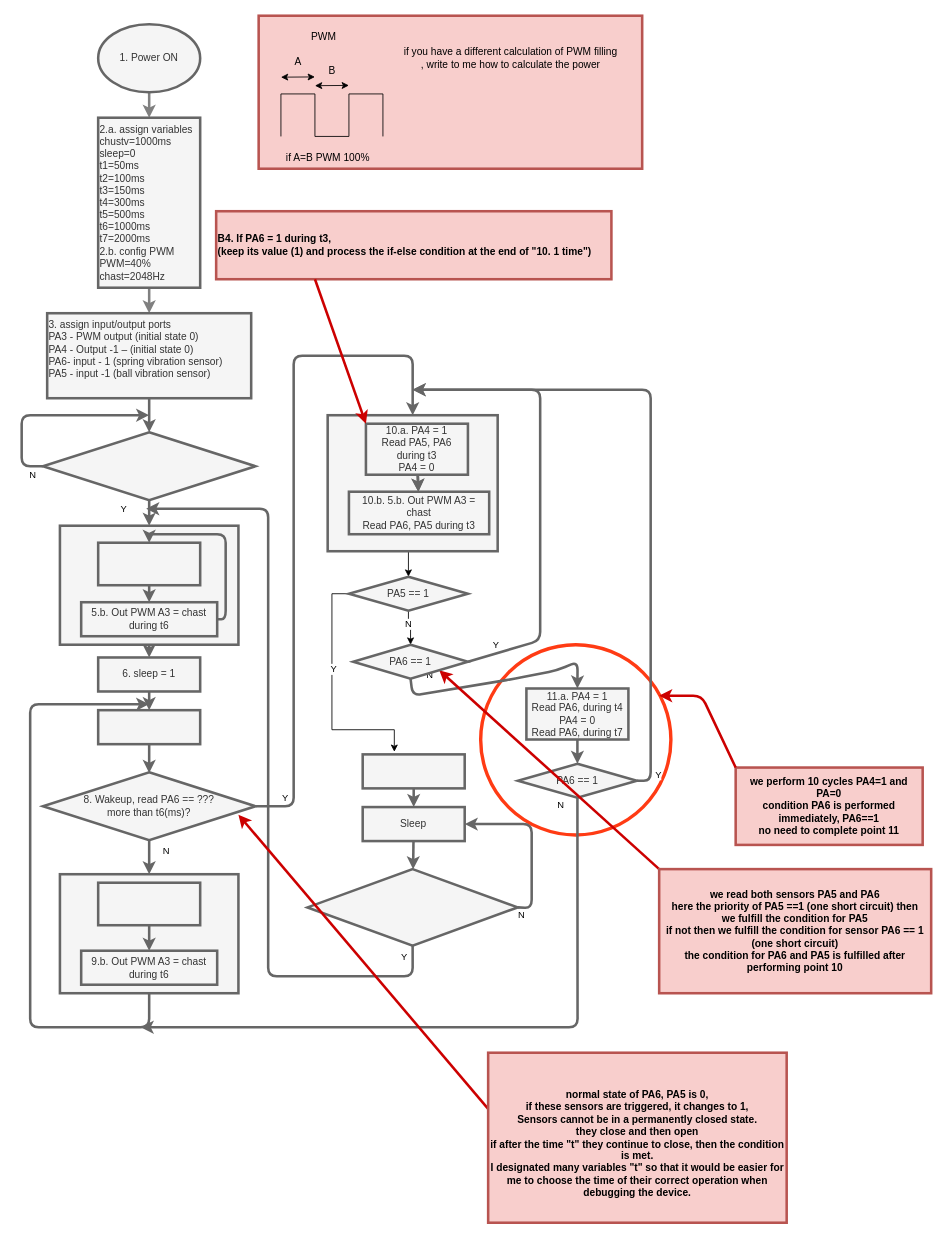
Image size: 947x1238. Some labels were removed from this diagram. The shapes that lost their labels are listed below. From the top down, each one's box as (x1, y1, x2, y2) in pixels, then its label:
(41, 431, 256, 501): 4. read PA5 == 1 more than 2000ms?
(326, 414, 499, 552): 10. 1 times
(96, 541, 201, 586): 5.a. PA4 = 1 delay(t6) PA4 = 0
(58, 524, 239, 646): 5. 3 times
(96, 708, 201, 745): 7. Sleep
(361, 753, 466, 789): sleep = 2
(96, 881, 201, 926): 9.a. PA4 = 1 delay(t1) PA4 = 0
(306, 867, 519, 946): 12. Wakeup, read PA5 == 1 more than 2000(ms)?
(58, 873, 239, 994): 9. 1 times
